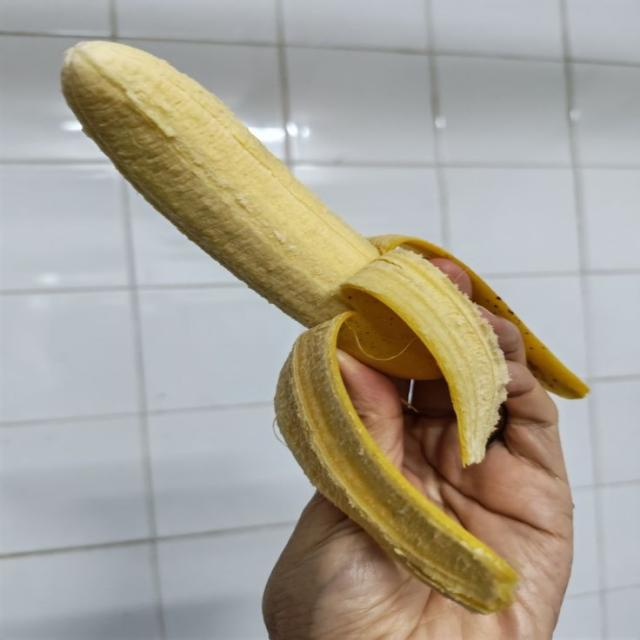banana: (63, 42, 515, 612)
